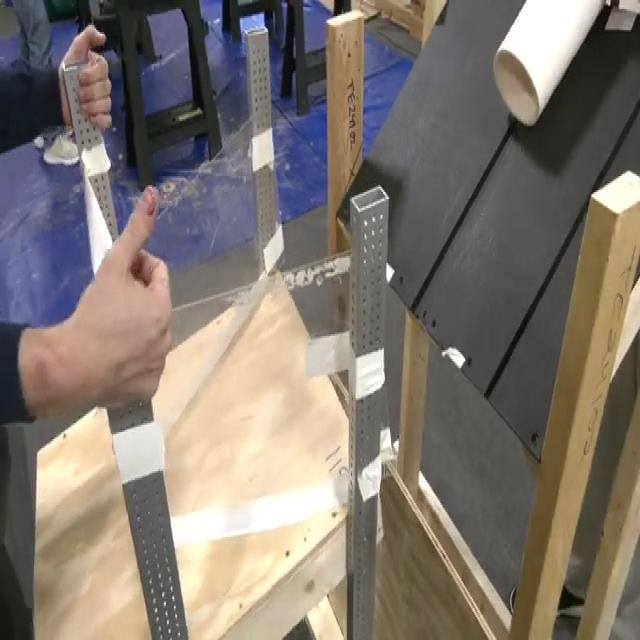Coral: (491, 0, 606, 126)
